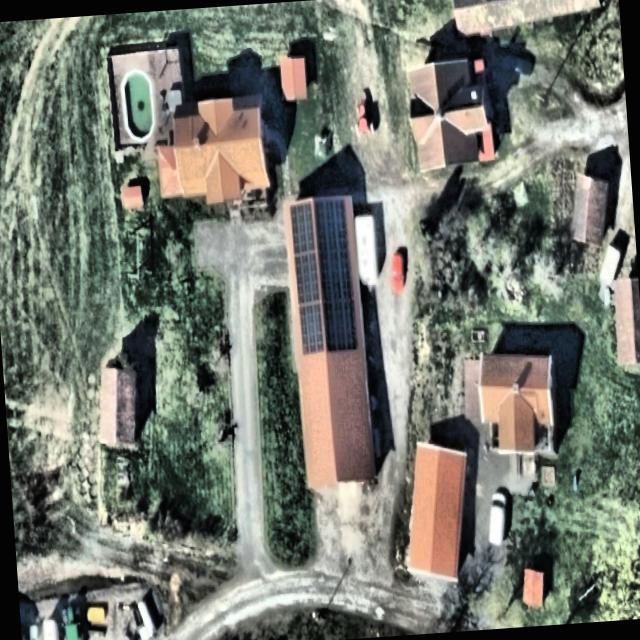roof_pv: (316, 190, 360, 355), (287, 192, 326, 361)
